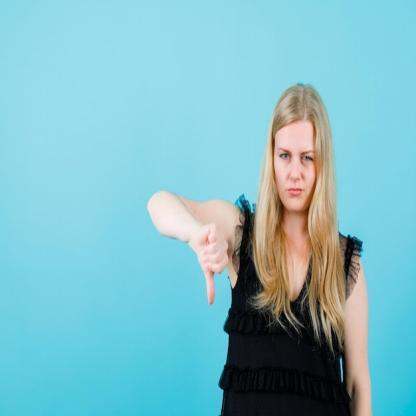thumb_down: (190, 212, 232, 309)
